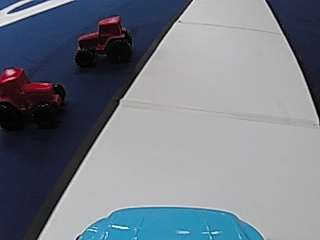tractor: (0, 64, 65, 131), (71, 14, 133, 67)
